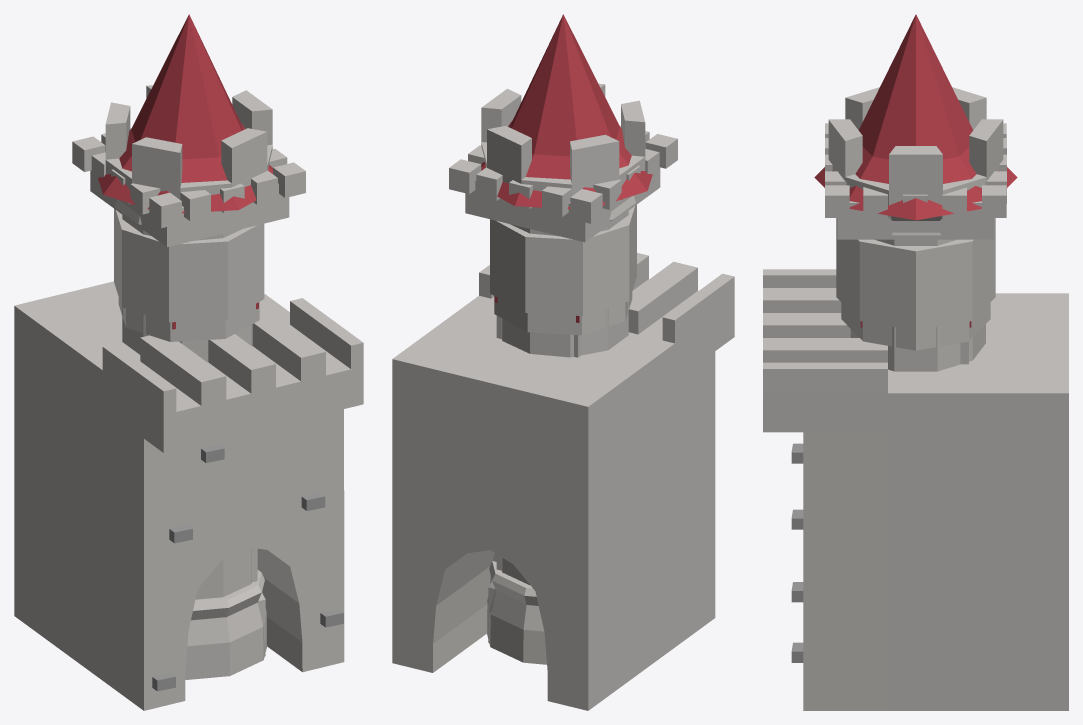
File: keep-exterior.glb
3 renders of one model, left to right at view 1: azimuth 30°, elevation 25°; view 2: azimuth 150°, elevation 25°; view 3: azimuth 270°, elevation 25°, orthographic. The views are drawn at different scales.
Parts seen in each view (by area): view 1: gatehouse, keepSpire, towerRound, towerSquare, towerTall; view 2: gatehouse, keepSpire, towerRound, towerSquare, towerTall; view 3: gatehouse, keepSpire, towerRound, towerSquare, towerTall.
Part boxes in pixels (box(x1,y1,x2,y2)): gatehouse: box(14, 281, 363, 710); keepSpire: box(98, 14, 272, 322); towerRound: box(105, 85, 272, 679); towerSquare: box(72, 133, 305, 656); towerTall: box(118, 297, 259, 341); gatehouse: box(392, 253, 734, 710); keepSpire: box(481, 14, 652, 315); towerRound: box(481, 83, 645, 664); towerSquare: box(449, 131, 677, 642); towerTall: box(494, 292, 632, 335); gatehouse: box(763, 269, 1068, 710); keepSpire: box(814, 14, 1017, 330); towerRound: box(828, 87, 1003, 371); towerSquare: box(825, 123, 1006, 364); towerTall: box(841, 302, 990, 350).
Bounding box in the file's own units: 1.78 × 5.37 × 2.3.
